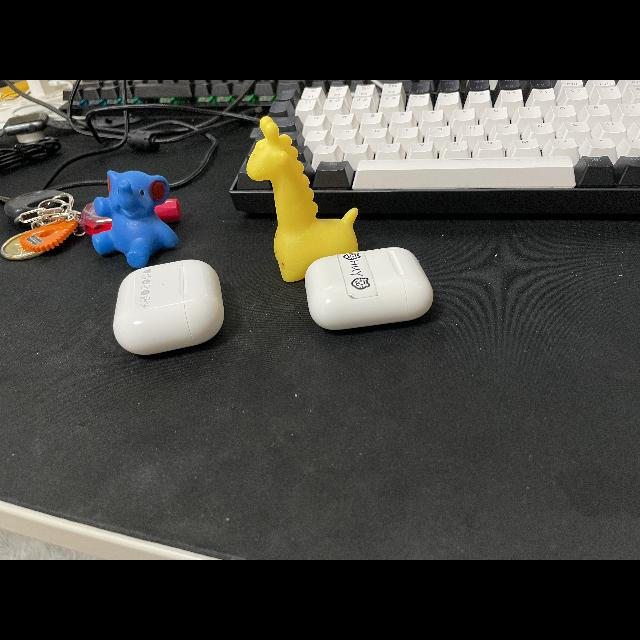airpod2: (297, 244, 438, 332)
airpod3: (113, 259, 230, 357)
